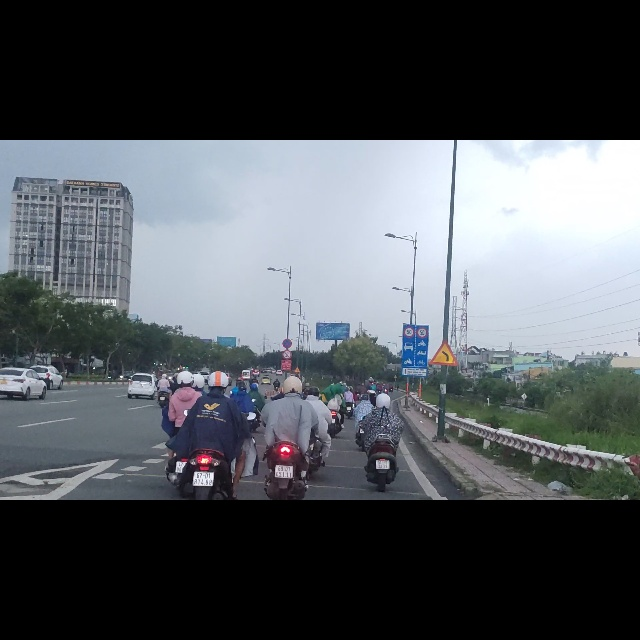bien_chi_dan: (429, 351, 460, 402), (416, 331, 428, 352), (404, 332, 415, 352), (281, 352, 292, 371), (281, 373, 292, 391), (294, 401, 301, 414)
